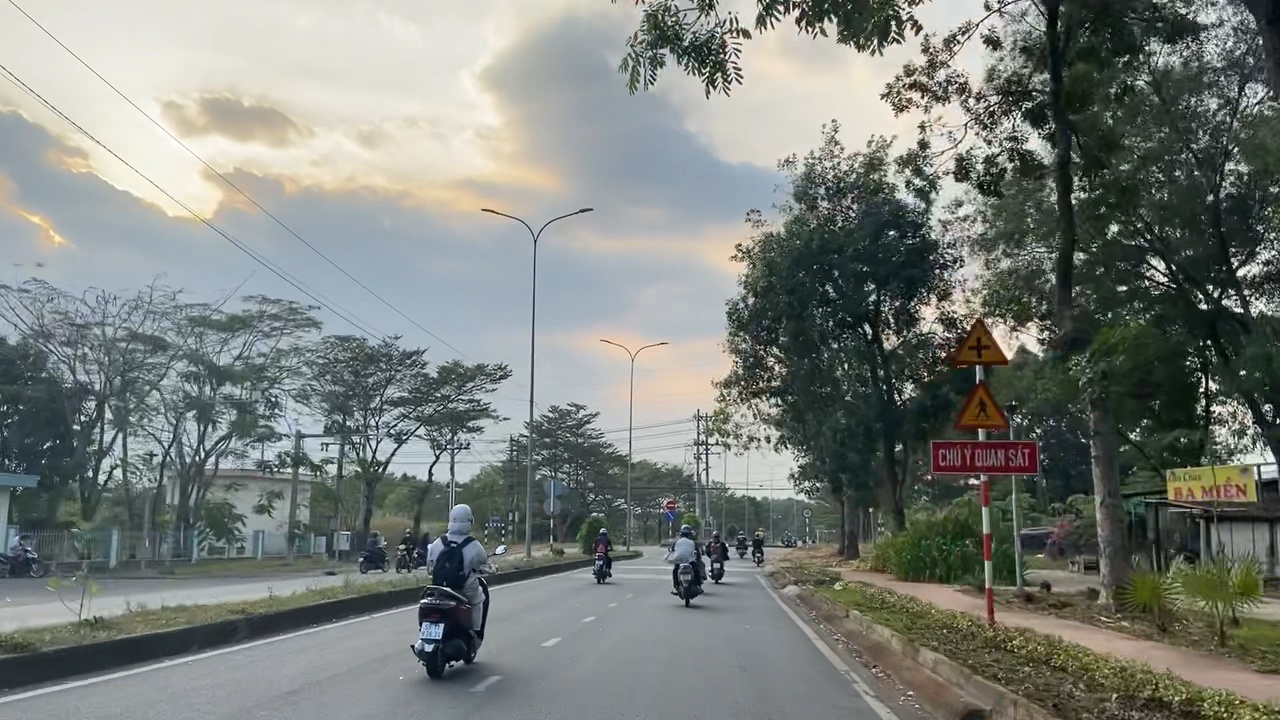can_than_nguoi_qua_duong: (951, 378, 1013, 431)
giao_nhau_chu_thap: (950, 314, 1011, 369)
